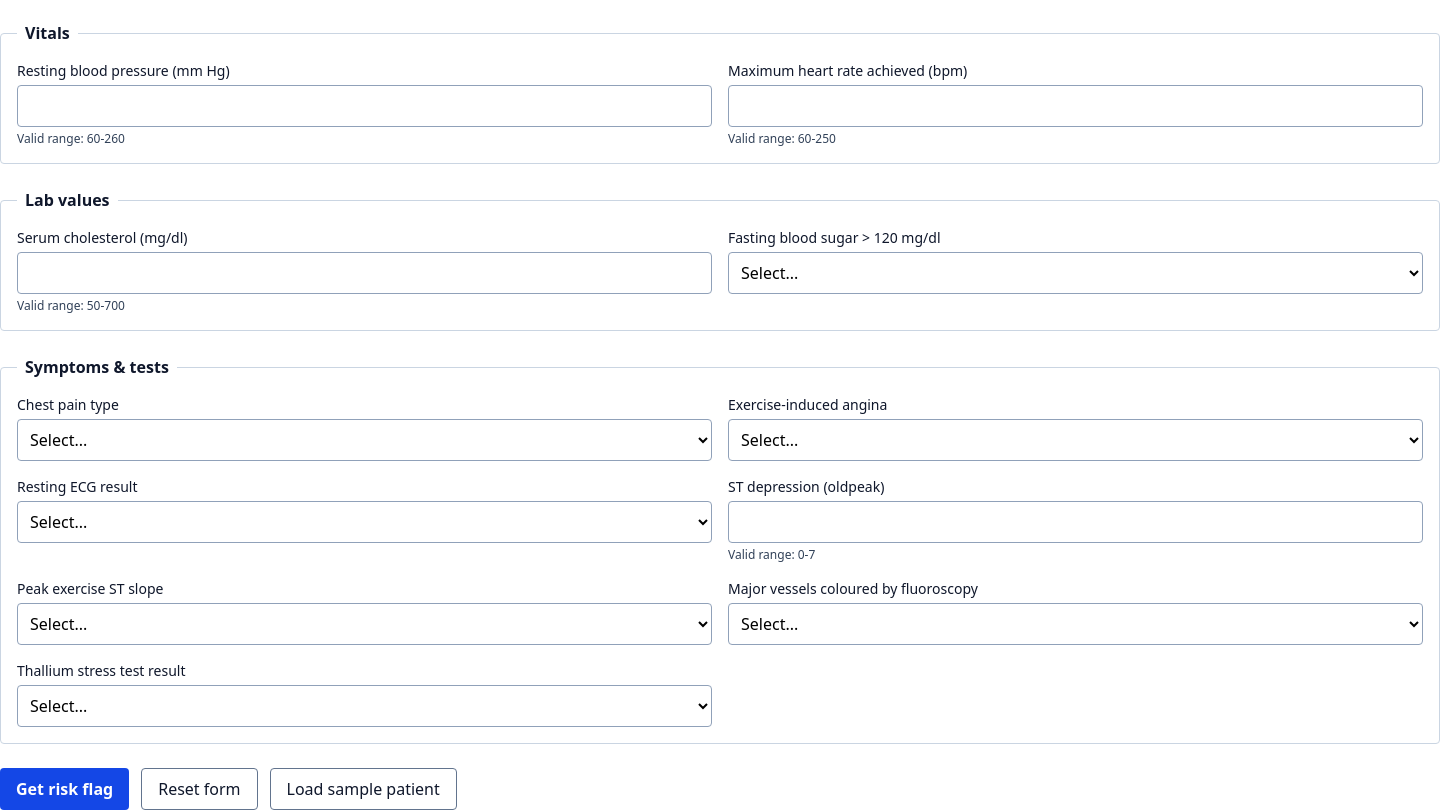
Test: ScorePage › when a value changes after submitting › removes the result: a number field
(page scrolled)
Step 1. Click the button "Load sample patient" → (363,789), box [270, 768, 457, 809]
(page scrolled)
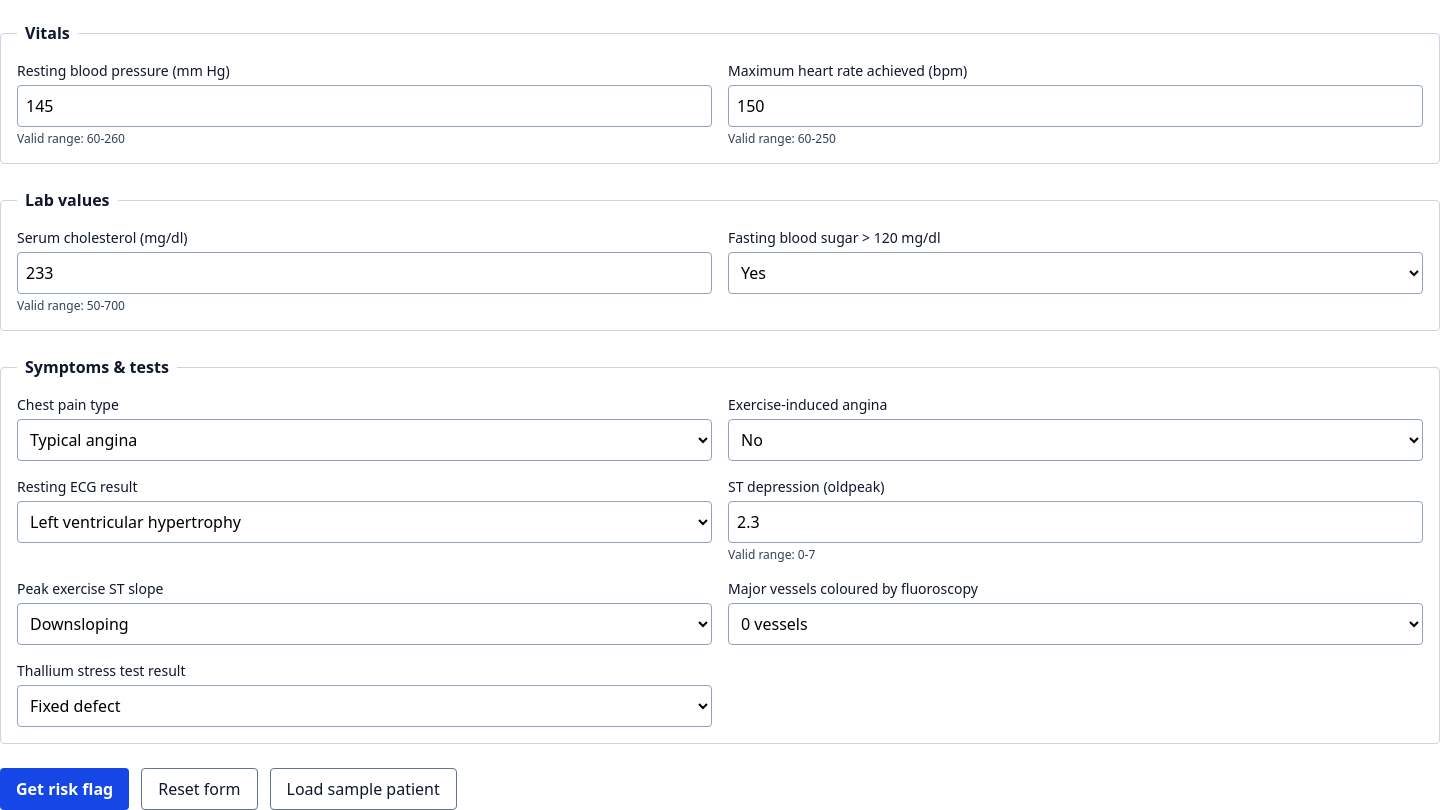
Step 2. Click the button "Get risk flag" → (65,789), box [0, 768, 129, 809]
(page scrolled)
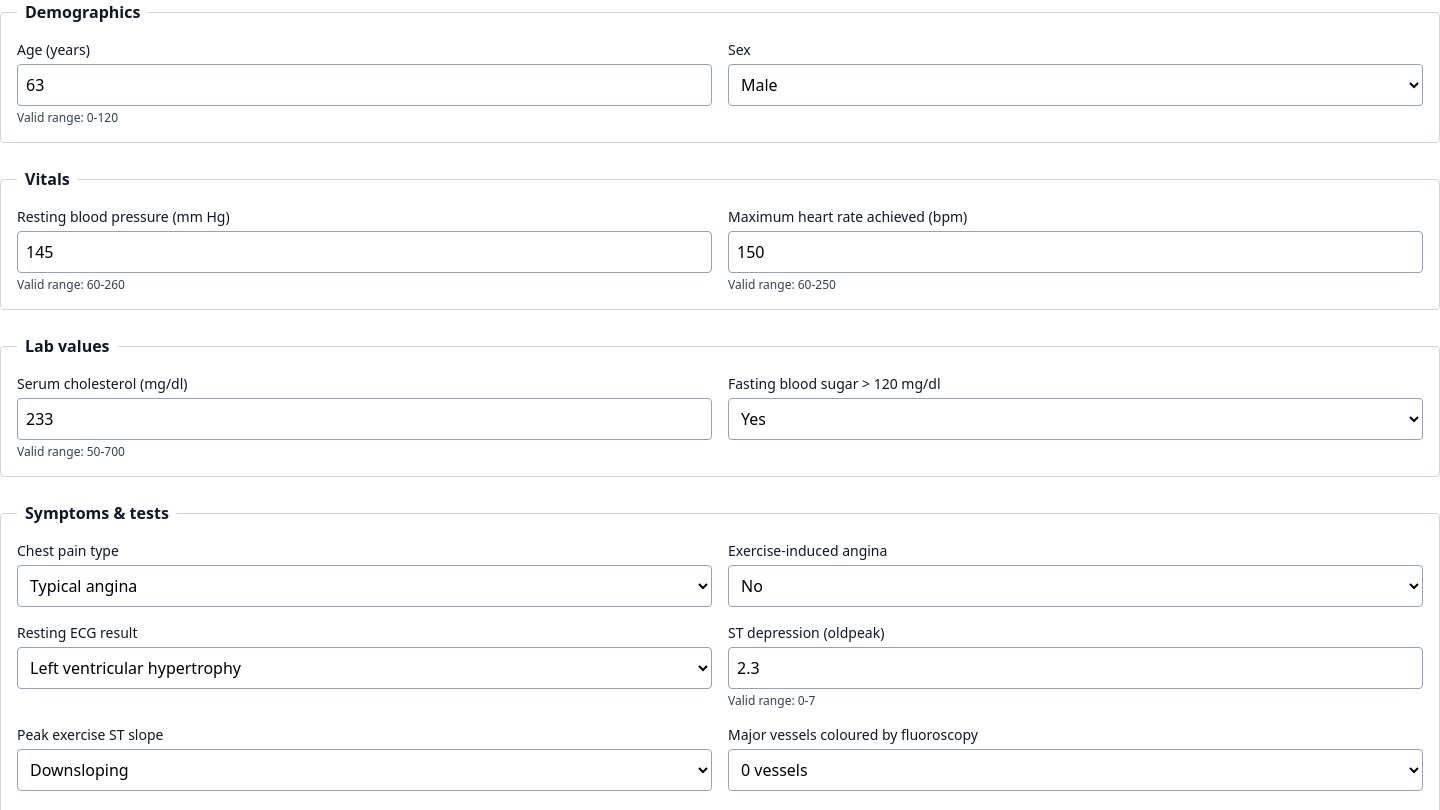
expect the text "values changed" is not shown: met
Step 3. Replace the text in the number field labelled "Age (years)" with "50" → (364,85), box [17, 64, 712, 106]
(page scrolled)
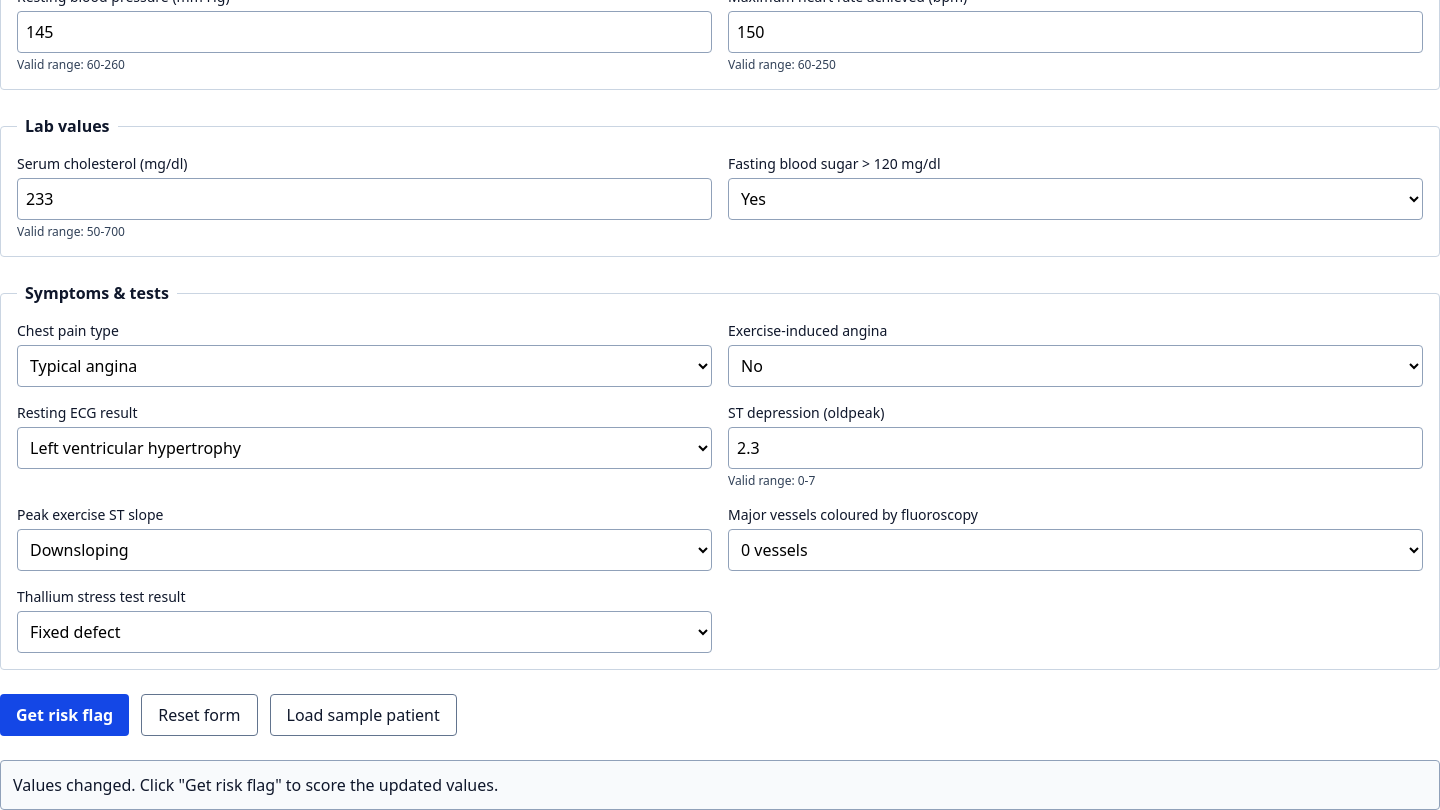
expect the text "Values changed. Click \"Get risk flag\" to score the updated values." is shown: met, box [0, 760, 1439, 809]
